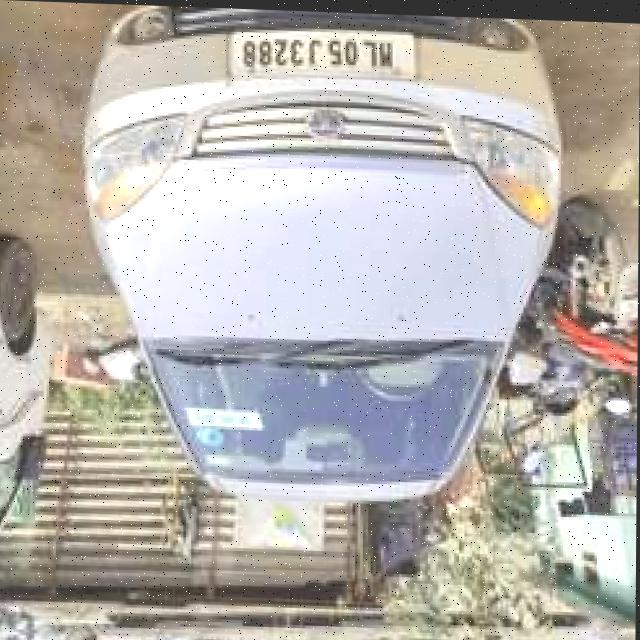plate: (230, 21, 412, 82), (615, 292, 638, 322)
